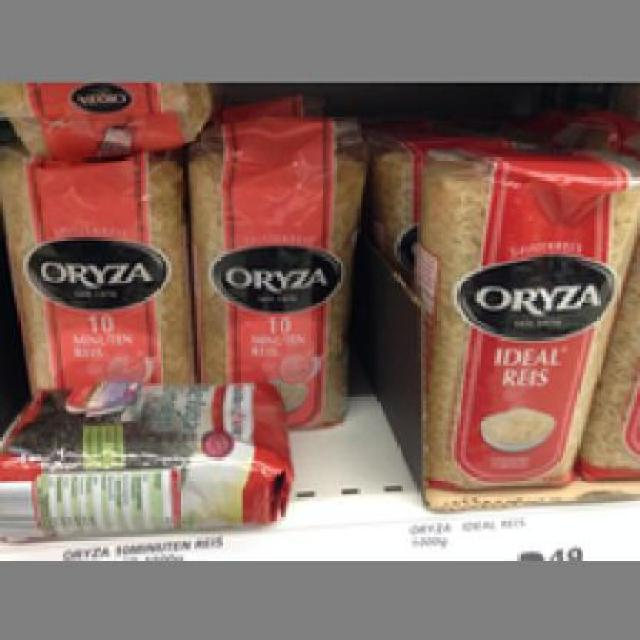Rice: (412, 146, 638, 494), (186, 112, 366, 428), (0, 142, 200, 388)
